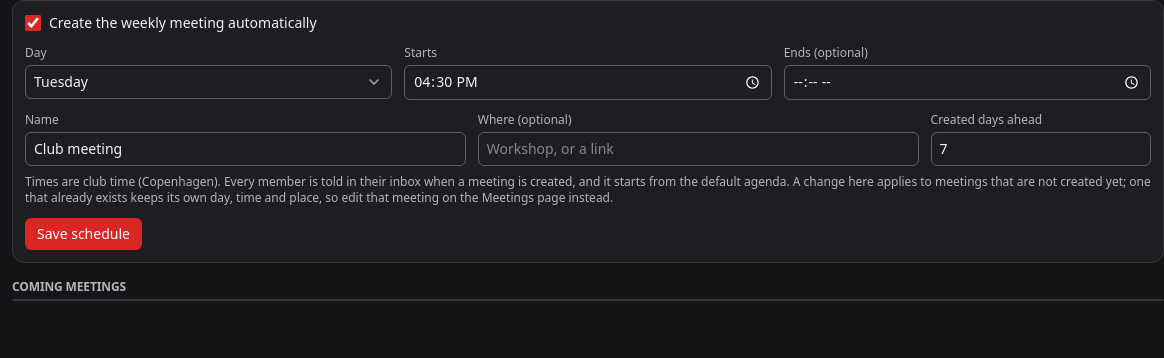
Test case: the saved schedule › refuses an empty name, an end before the start and a lead time out of range, and sends nothing
The image size is (1164, 358).
Step 1. Clear the field labelled "Name" → [245, 149], box [25,132,466,166]
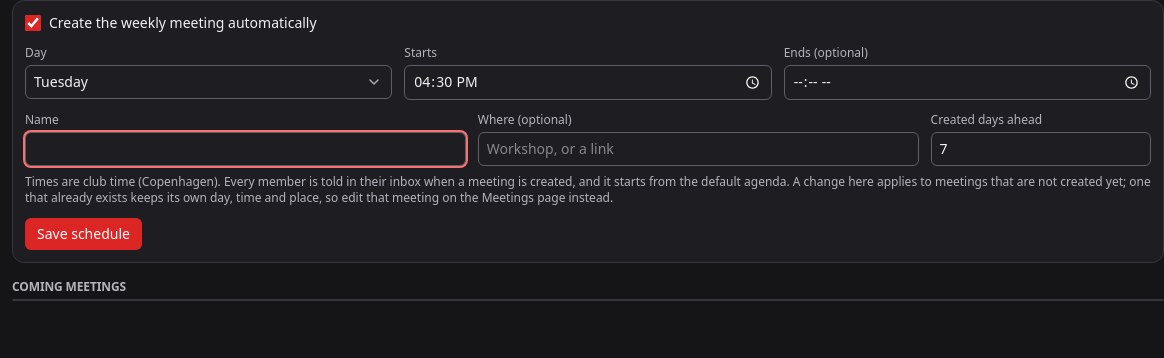
Step 2. Type "15:00" into the time field labelled "Ends (optional)" → [967, 82], box [784,65,1151,100]
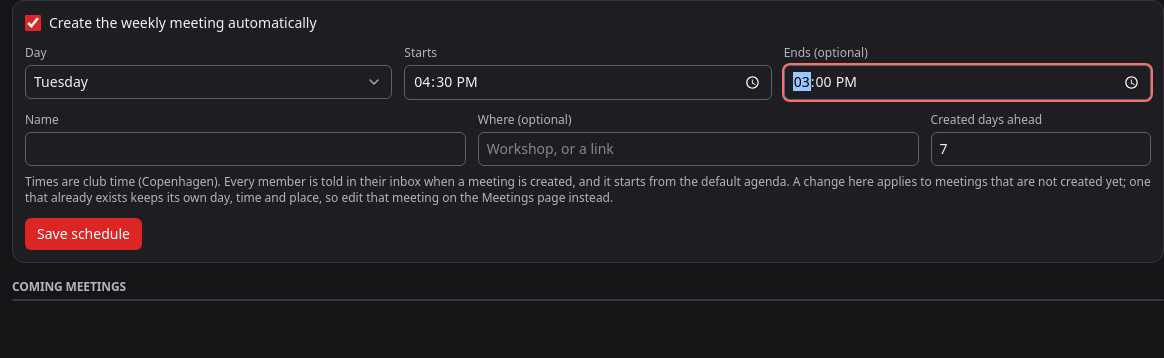
Step 3. Replace the text in the number field labelled "Created days ahead" with "40" → [1041, 149], box [931,132,1151,166]
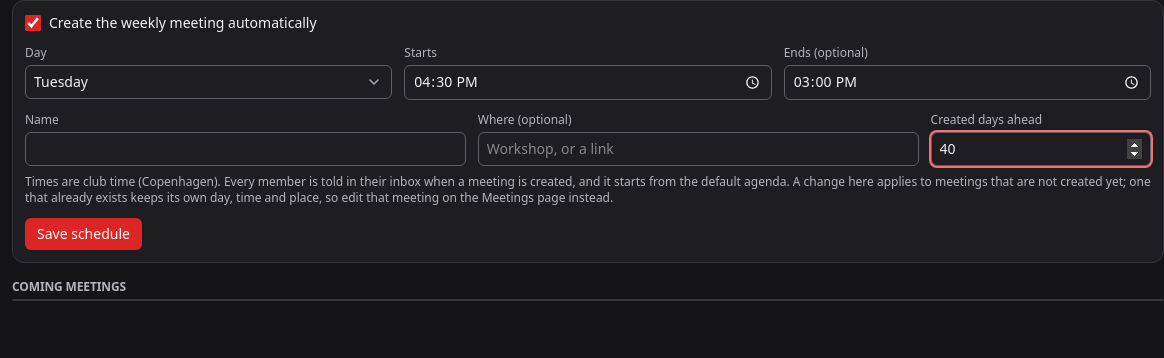
Step 4. Click the button "Save schedule" → [83, 234], box [25,218,142,250]
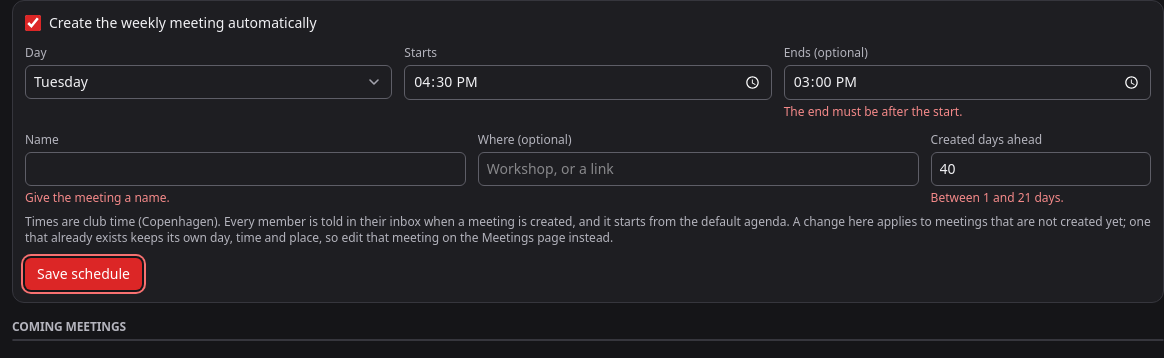
Expected: the text "Give the meeting a name." is shown, [25,189,170,206]
Expected: the text "The end must be after the start." is shown, [784,103,962,120]
Expected: the text "Between 1 and 21 days." is shown, [931,189,1064,206]
